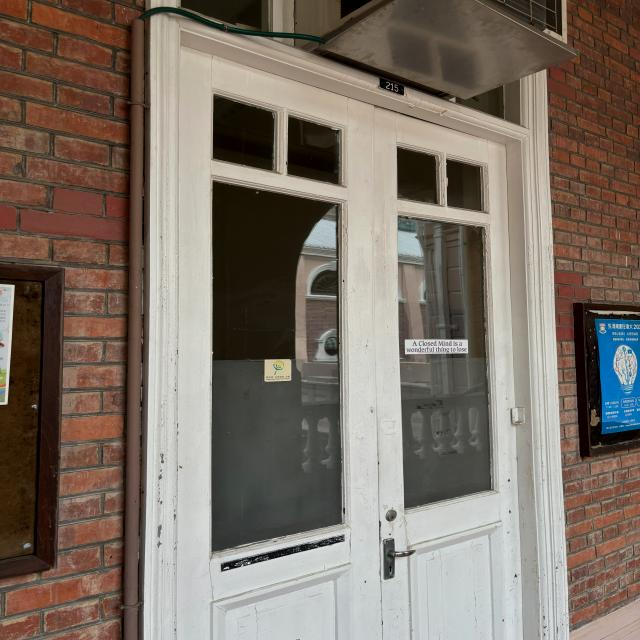MB215_roomNumber: (373, 75, 410, 99)
